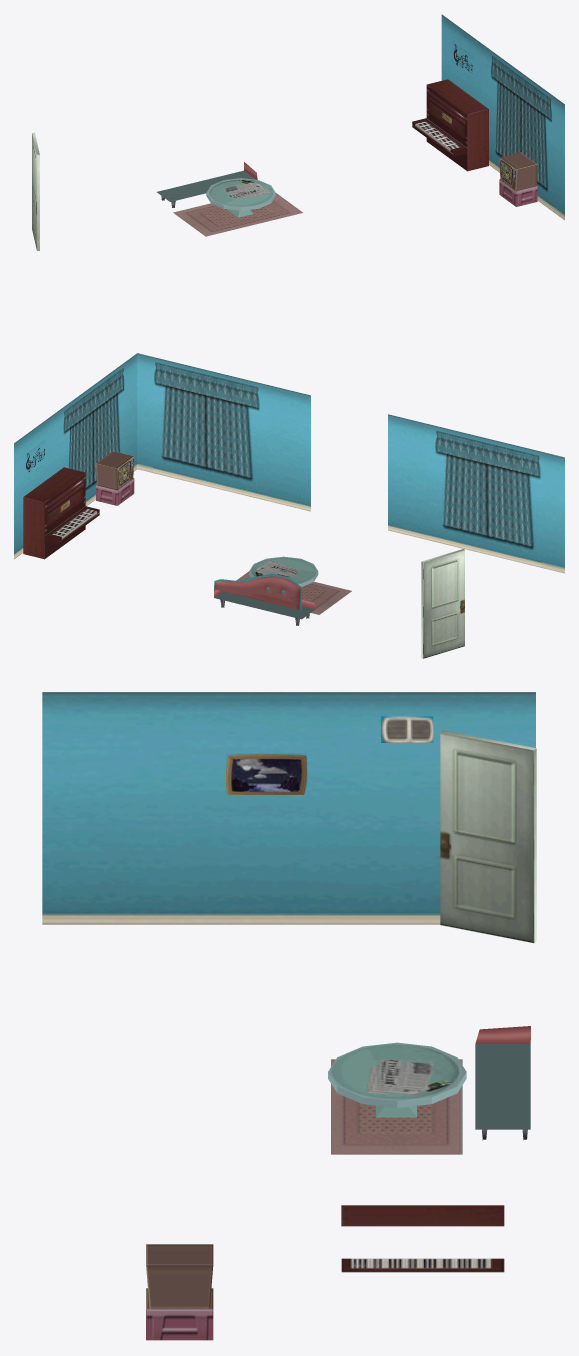
Rendered from LRoom.glb.
3 views of the same model, one above another, from view 1: azimuth 30°, elevation 25°; view 2: azimuth 150°, elevation 25°; view 3: azimuth 270°, elevation 25° (orthographic). The views are drawn at different scales.
Visible parts, largest first — view 1: LRoom; view 2: LRoom; view 3: LRoom.
Boxes of the visible parts, <box> form: LRoom: <box>32,14,564,250</box>; LRoom: <box>14,353,564,658</box>; LRoom: <box>42,692,536,1340</box>.
Size of the model in its own units: 2401 by 626 by 1202.
Materials: 10 (10 with a texture image).
